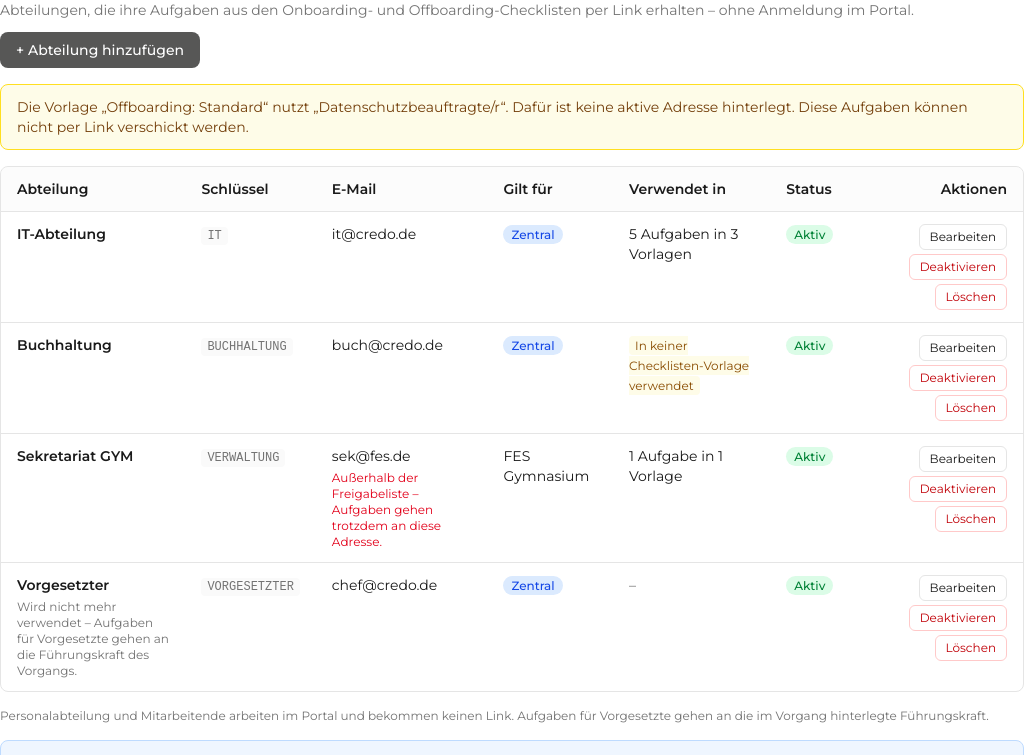
it: Zeilenaktionen › Deaktivieren nennt den Namen
The width and height of the screenshot is (1024, 755).
What coordinates should you click on to do the following:
click the button "Deaktivieren" below "5 Aufgaben in 3 Vorlagen"
I would click on:
 (958, 267)
Its box is [909,254,1007,280].
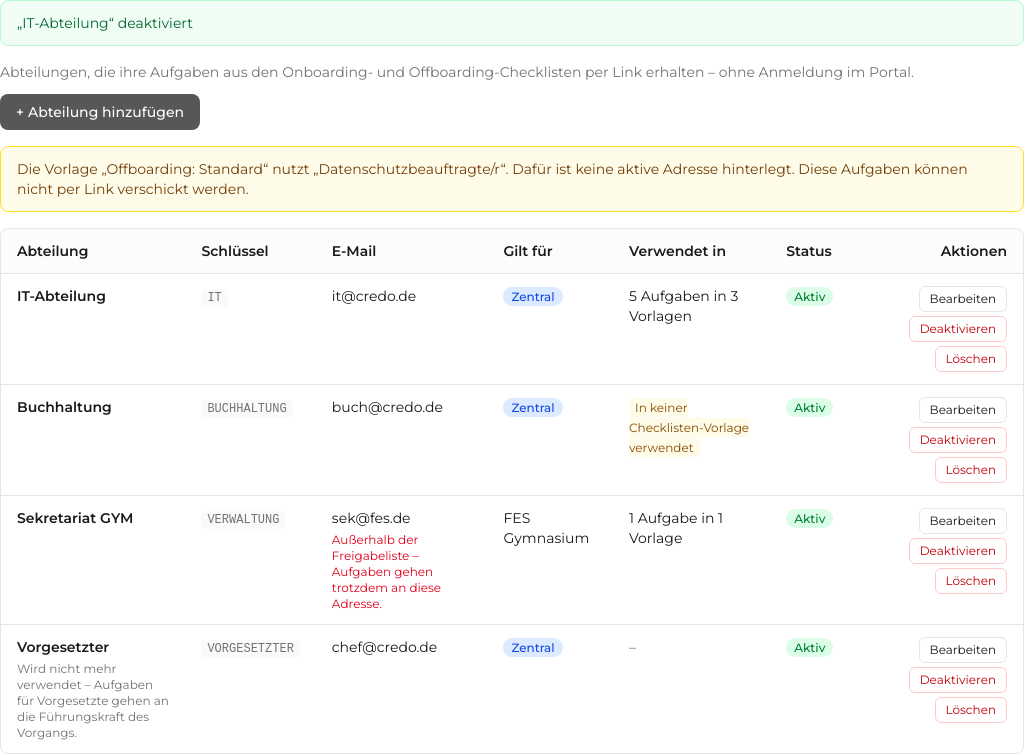
Result: the text "„IT-Abteilung“ deaktiviert" is shown at [0,0,1023,46]
